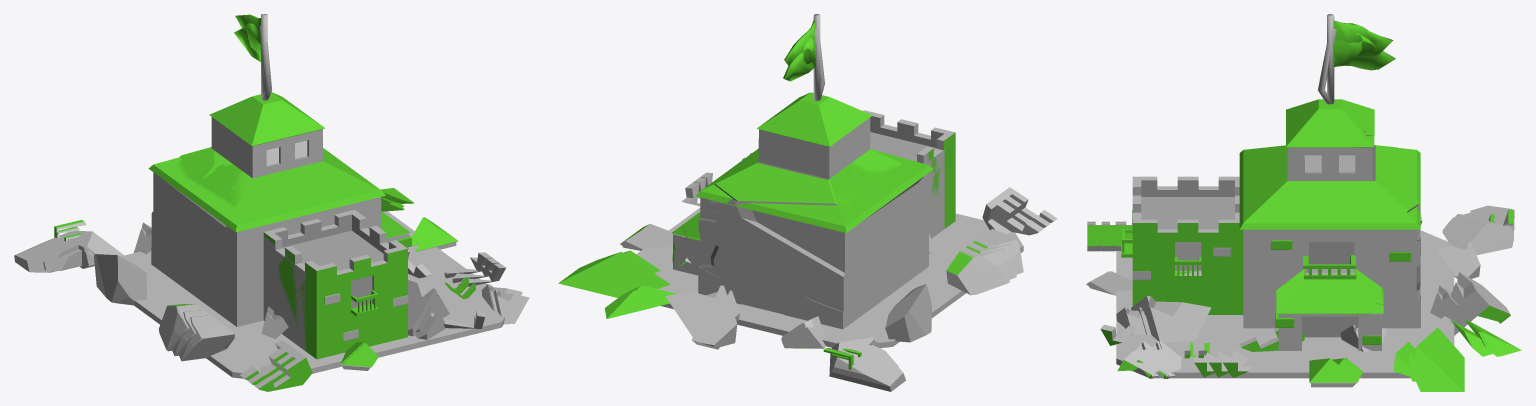
Rendered from level2greencasteles.fbx.
3 renders of one model, left to right at view 1: azimuth 30°, elevation 25°; view 2: azimuth 150°, elevation 25°; view 3: azimuth 270°, elevation 25°, orthographic. The views are drawn at different scales.
Parts seen in each view (by area): view 1: castlelevel2green, castlelevel2green25destroyed, castlelevel2green50destroyed, greenbasecastelevel2, greenbasecastelevel225destroyed, greenbasecastelevel275destroyed, greenbasecastelevel250destroyed, castlelevel2blue.005_cell.131, castlelevel2blue.005_cell.150, castlelevel2blue.005_cell.103, castlelevel2blue.005_cell.139, castlelevel2green100destroyed (+11 smaller); view 2: castlelevel2green25destroyed, castlelevel2green75destroyed.001, castlelevel2green, castlelevel2green100destroyed, greenbasecastelevel2, castlelevel2green50destroyed, greenbasecastelevel225destroyed, castlelevel2blue.005_cell.137, castlelevel2blue.005_cell.131, castlelevel2blue.005_cell.134, greenbasecastelevel250destroyed, castlelevel2blue.005_cell.122 (+9 smaller); view 3: castlelevel2green, castlelevel2green50destroyed, castlelevel2green25destroyed, greenbasecastelevel2, greenbasecastelevel225destroyed, greenbasecastelevel250destroyed, castlelevel2green75destroyed.001, castlelevel2blue.005_cell.131, castlelevel2blue.005_cell.134, castlelevel2blue.005_cell.139, greenbasecastelevel275destroyed, castlelevel2blue.005_cell.137 (+19 smaller).
Part boxes in pixels (<box>): castlelevel2green: <box>149,14,411,359</box>; castlelevel2green25destroyed: <box>150,23,408,358</box>; castlelevel2green50destroyed: <box>176,148,389,351</box>; greenbasecastelevel2: <box>135,223,503,374</box>; greenbasecastelevel225destroyed: <box>134,212,431,376</box>; greenbasecastelevel275destroyed: <box>122,211,504,378</box>; greenbasecastelevel250destroyed: <box>120,223,487,376</box>; castlelevel2blue.005_cell.131: <box>14,220,124,272</box>; castlelevel2blue.005_cell.150: <box>93,254,146,305</box>; castlelevel2blue.005_cell.103: <box>179,315,234,361</box>; castlelevel2blue.005_cell.139: <box>408,280,449,336</box>; castlelevel2green100destroyed: <box>151,222,232,317</box>; castlelevel2green25destroyed: <box>672,28,954,275</box>; castlelevel2green75destroyed.001: <box>698,162,922,314</box>; castlelevel2green: <box>671,14,955,307</box>; castlelevel2green100destroyed: <box>698,227,926,329</box>; greenbasecastelevel2: <box>640,210,1022,348</box>; castlelevel2green50destroyed: <box>674,120,944,308</box>; greenbasecastelevel225destroyed: <box>640,208,1023,345</box>; castlelevel2blue.005_cell.137: <box>665,285,737,349</box>; castlelevel2blue.005_cell.131: <box>823,337,905,391</box>; castlelevel2blue.005_cell.134: <box>558,252,670,297</box>; greenbasecastelevel250destroyed: <box>875,221,1023,346</box>; castlelevel2blue.005_cell.122: <box>946,250,1008,295</box>; castlelevel2green: <box>1121,14,1419,350</box>; castlelevel2green50destroyed: <box>1133,176,1416,350</box>; castlelevel2green25destroyed: <box>1132,28,1420,350</box>; greenbasecastelevel2: <box>1117,230,1454,378</box>; greenbasecastelevel225destroyed: <box>1116,230,1453,378</box>; greenbasecastelevel250destroyed: <box>1116,232,1453,378</box>; castlelevel2green75destroyed.001: <box>1246,145,1420,303</box>; castlelevel2blue.005_cell.131: <box>1442,205,1514,254</box>; castlelevel2blue.005_cell.134: <box>1413,327,1464,391</box>; castlelevel2blue.005_cell.139: <box>1131,296,1211,342</box>; greenbasecastelevel275destroyed: <box>1116,234,1453,378</box>; castlelevel2blue.005_cell.137: <box>1445,272,1510,335</box>.
Bounding box in the file's own units: 613 × 459 × 626.
